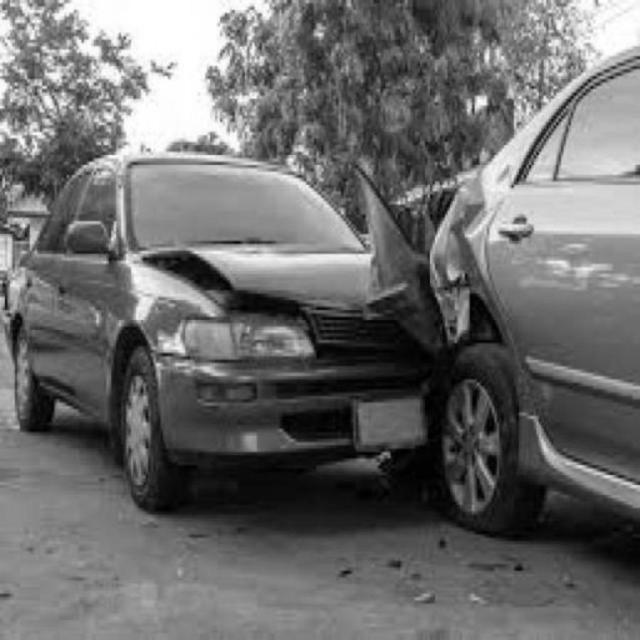accident: (19, 45, 637, 511)
